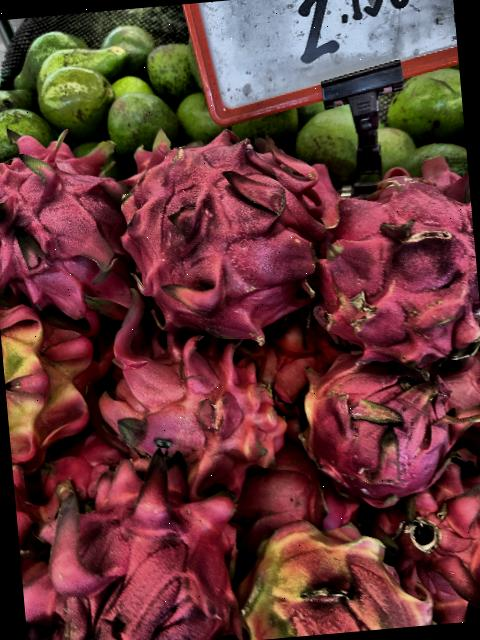buah-naga-belum-matang: (298, 340, 469, 508), (229, 511, 434, 640), (0, 292, 99, 462)
buah-naga-matang: (105, 122, 334, 342), (92, 296, 294, 494), (310, 159, 480, 382), (37, 458, 242, 640), (0, 111, 145, 332), (378, 483, 480, 628)
